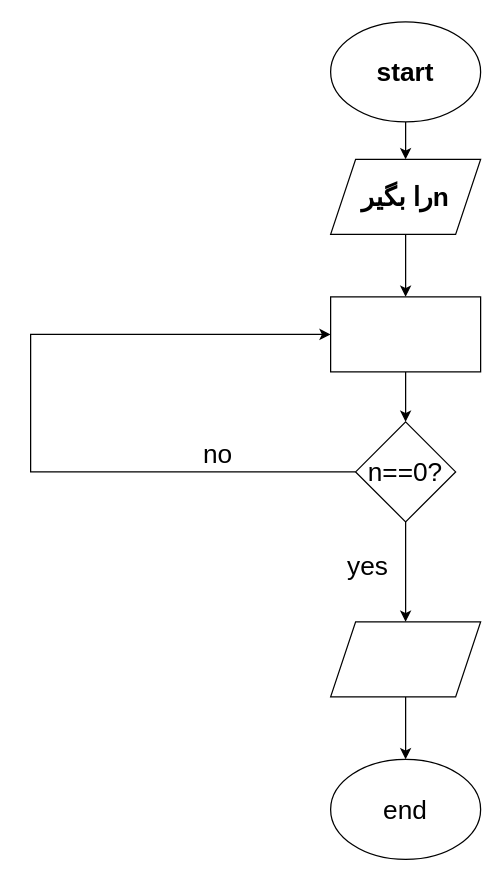
The diagram is 503 pixels wide and 881 high, and some of its shapes have lost their labels. Here are the shapes that lost their labels. From the top down, the centre of each, then its label:
At pixel 405 334: "r = n % 10 n = n // 10".
At pixel 405 659: "r را نمایش بده".
